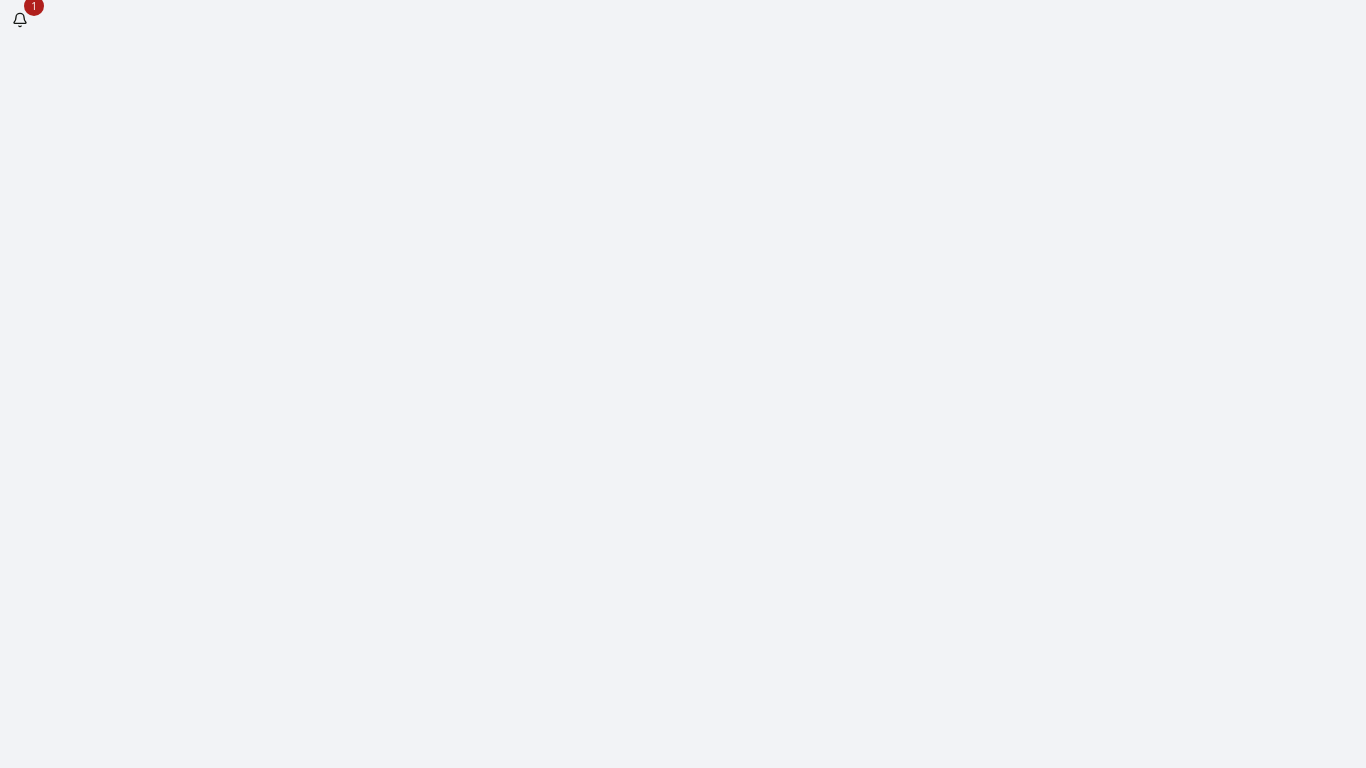
Test: NotificationBell › marks all read and returns focus to the bell after Escape
Click the button named "Notifications, 1 unread" at (20, 20), box [0,0,40,40]
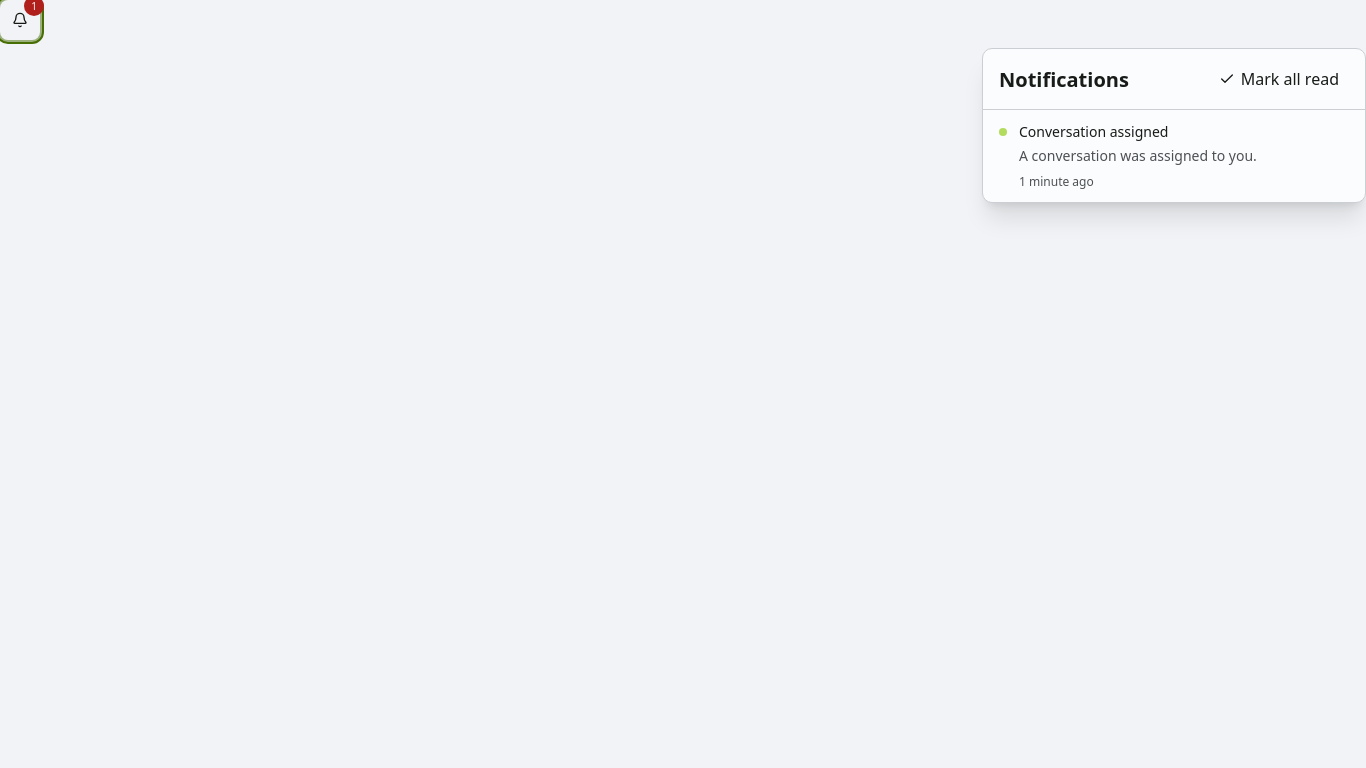
Click the button "Mark all read" at (1279, 79), box [1209,61,1349,97]
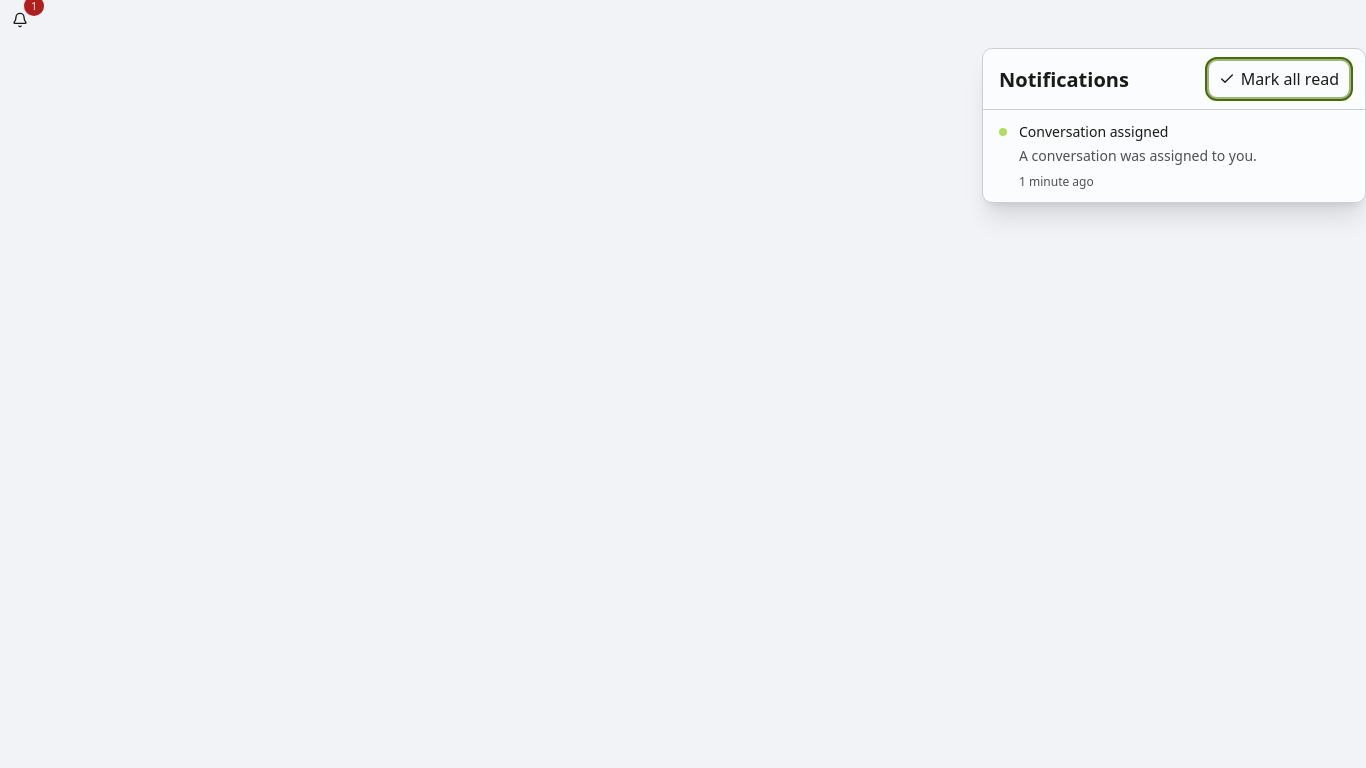
Press Escape
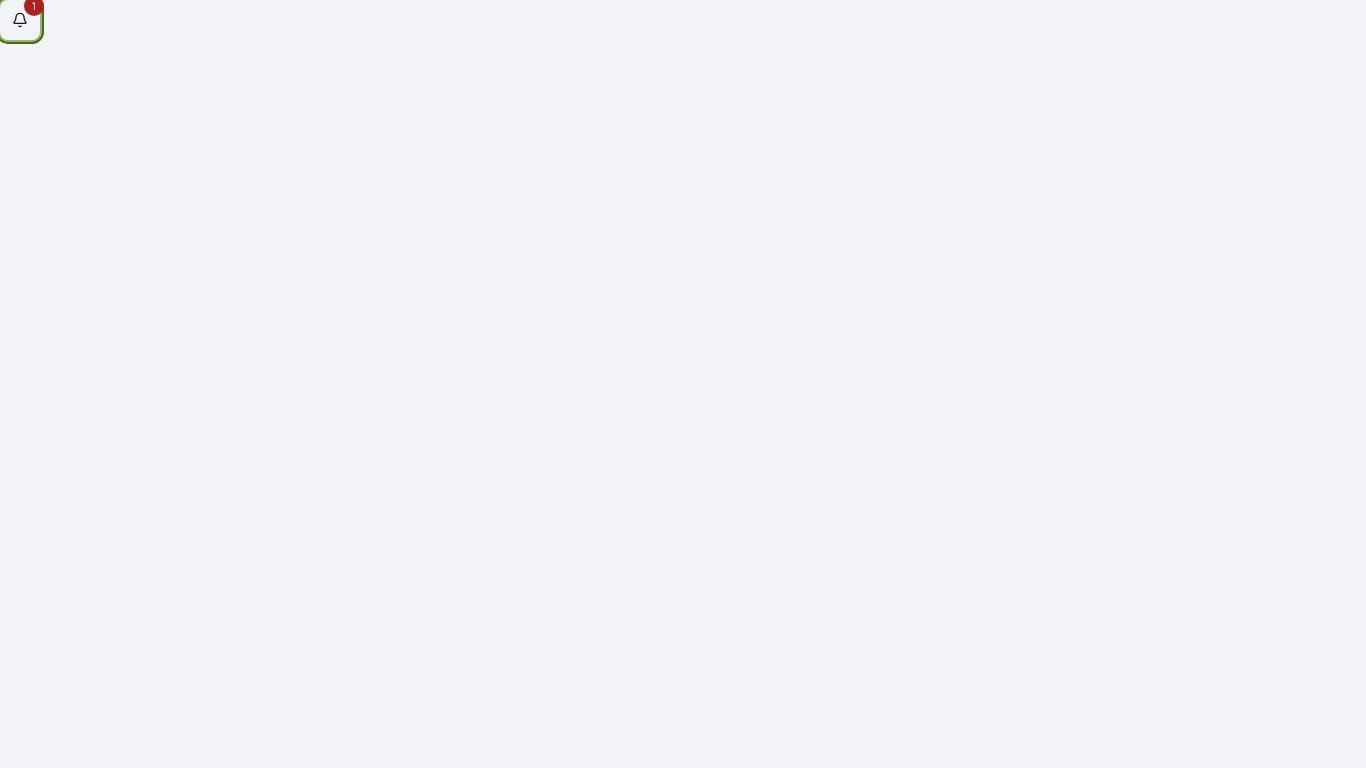
Now the heading "Notifications" is gone
